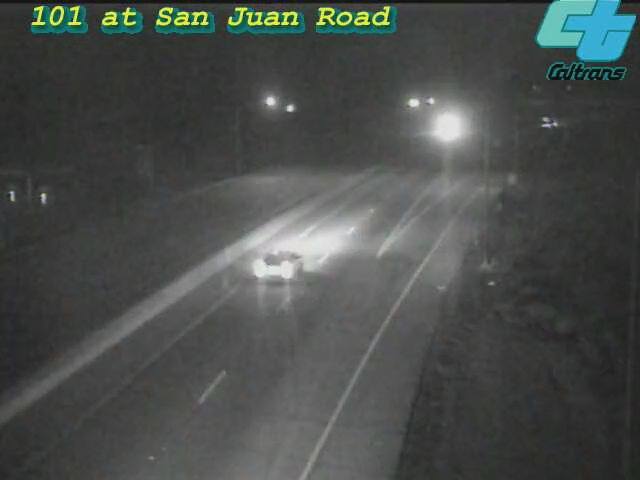vehicle: (240, 221, 320, 301), (419, 104, 469, 154), (526, 96, 576, 146)
